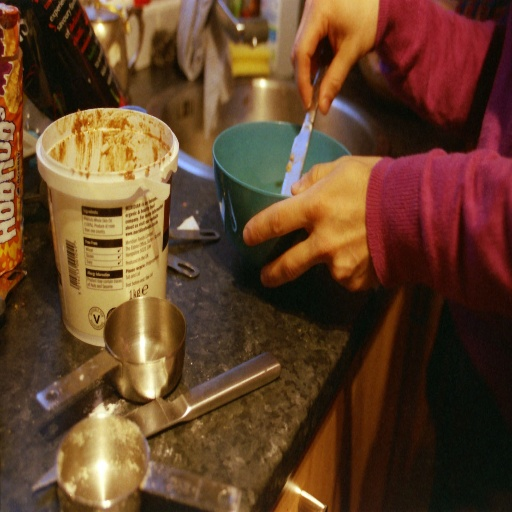hand: (258, 139, 385, 301), (289, 0, 382, 119)
